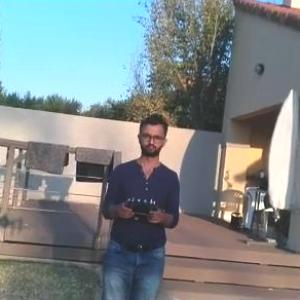follow: (96, 106, 187, 299)
